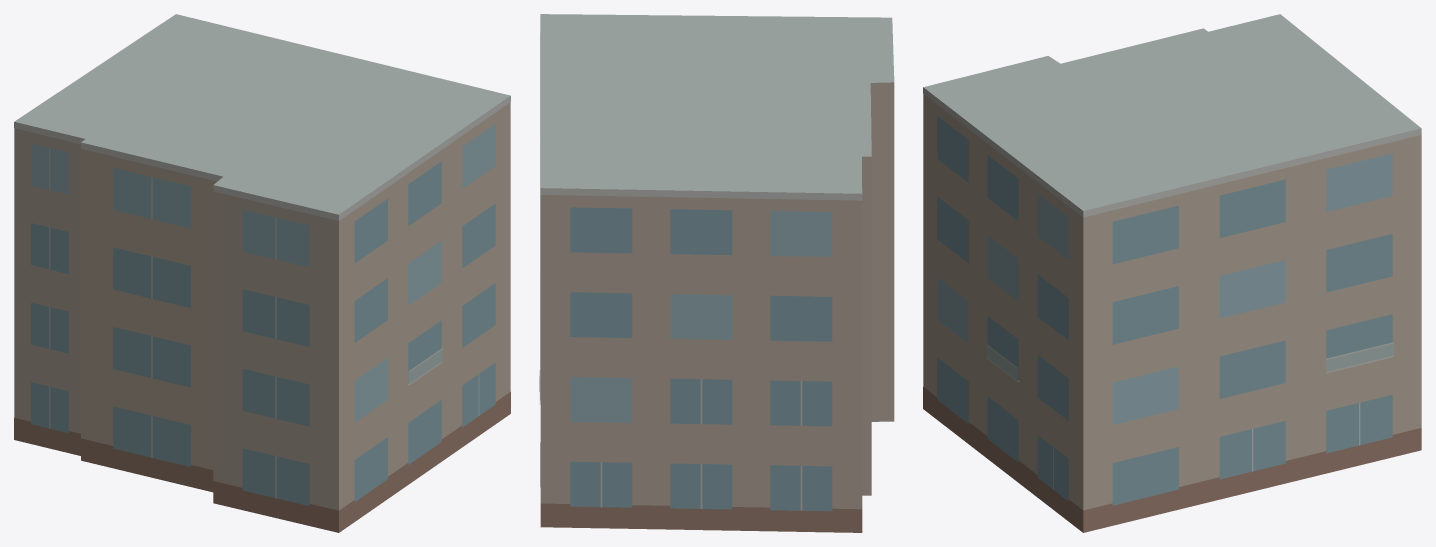
Rendered from survey-upis-32983290.glb.
3 renders of one model, left to right at view 1: azimuth 30°, elevation 25°; view 2: azimuth 150°, elevation 25°; view 3: azimuth 270°, elevation 25°, orthographic. The views are drawn at different scales.
Visible parts, largest first — view 1: survey-upis-32983290.tmp; view 2: survey-upis-32983290.tmp; view 3: survey-upis-32983290.tmp.
Part boxes in pixels (x1,y1,x2,y2): survey-upis-32983290.tmp: (14, 14, 510, 532); survey-upis-32983290.tmp: (539, 14, 894, 532); survey-upis-32983290.tmp: (923, 14, 1421, 532).
Bounding box in the file's own units: 16.03 × 12.2 × 17.14.
